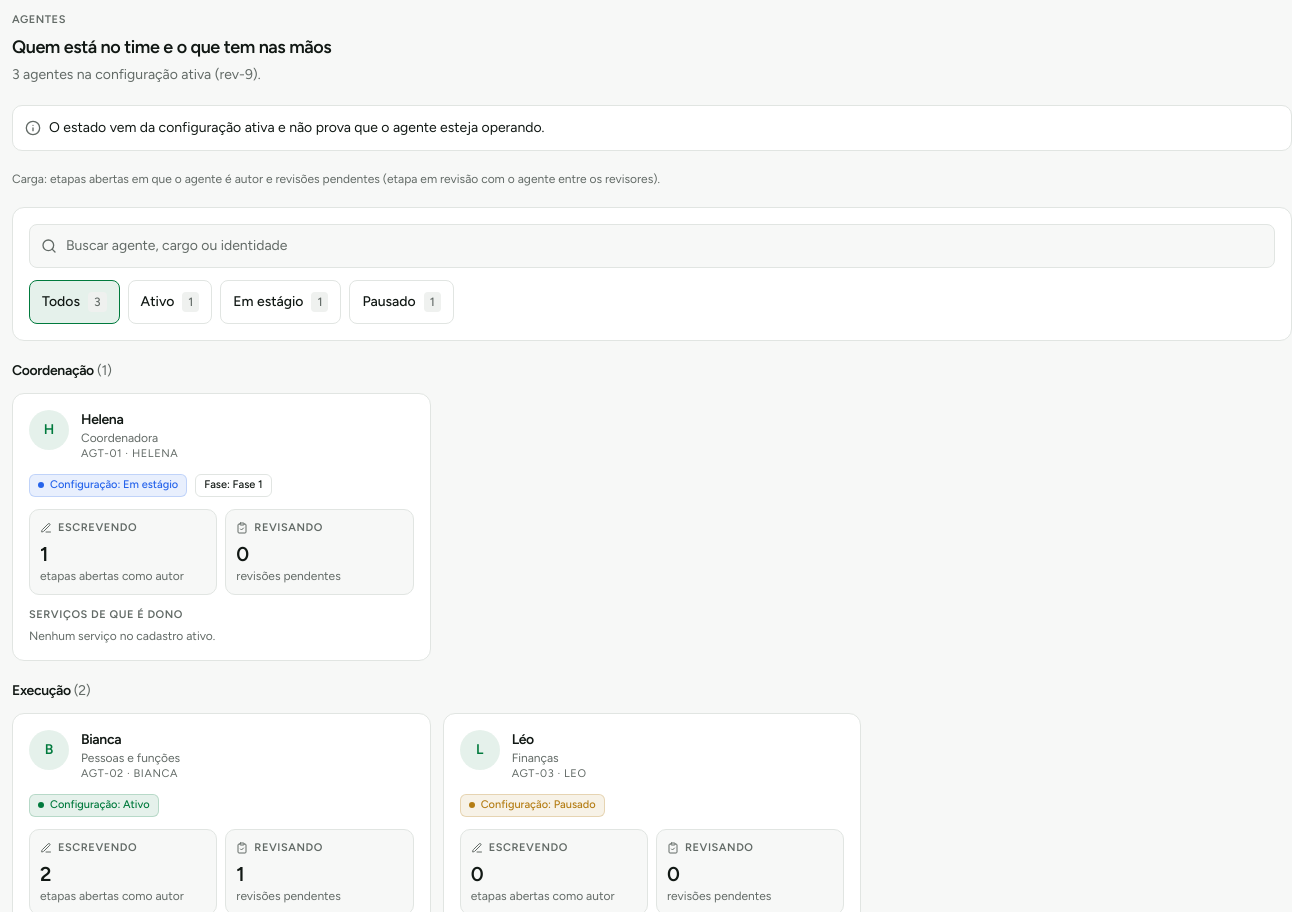
Test case: busca por nome e filtra por estado
This screenshot has width=1292, height=912.
Type "leo" into the search field labelled "Buscar agente, cargo ou identidade" at (652, 246), box left=29, top=224, right=1275, bottom=268
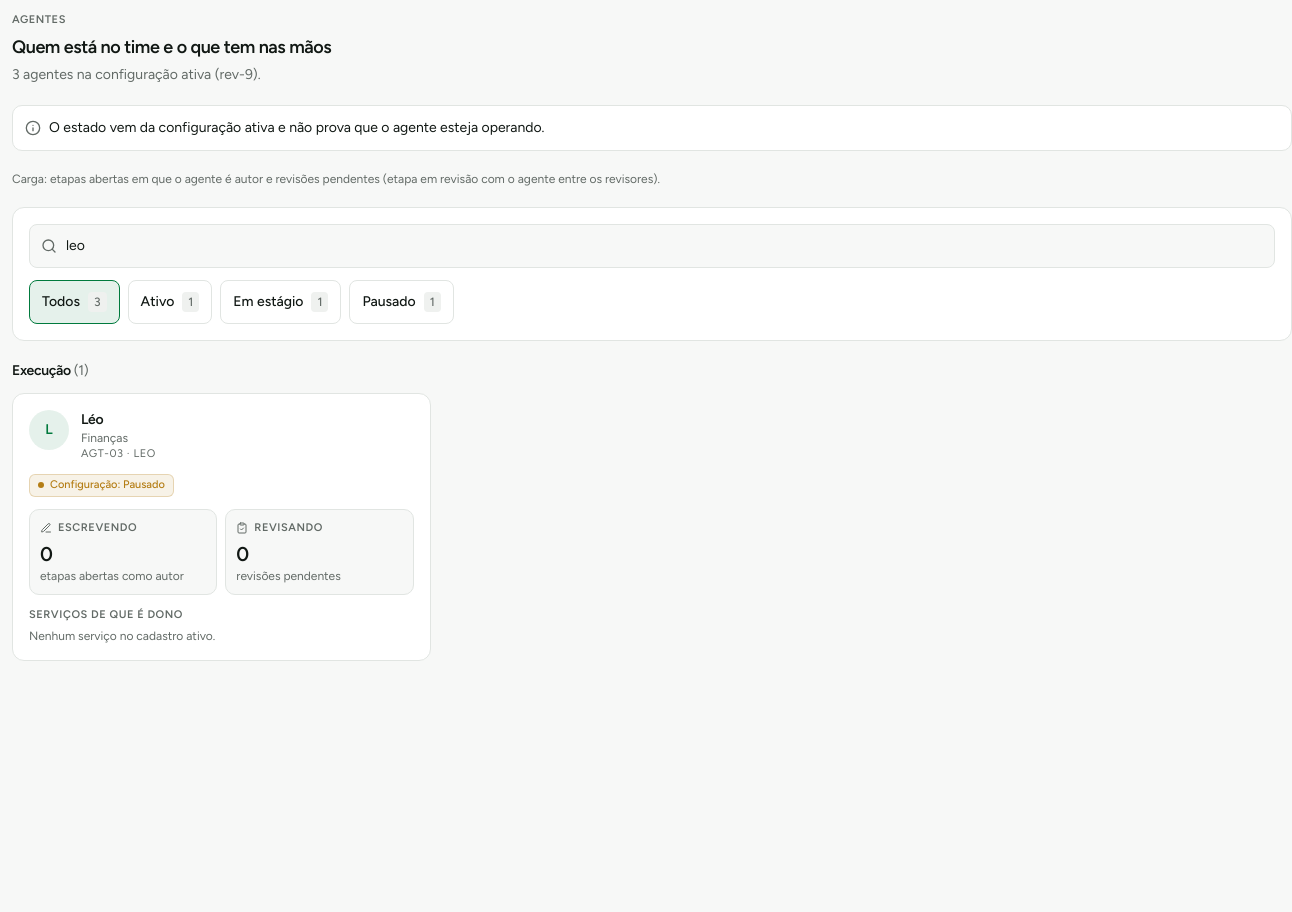
expect the number of list items named "Agente " is 1: met, box left=12, top=392, right=431, bottom=660
Clear the search field named "Buscar agente" at (652, 246), box left=29, top=224, right=1275, bottom=268
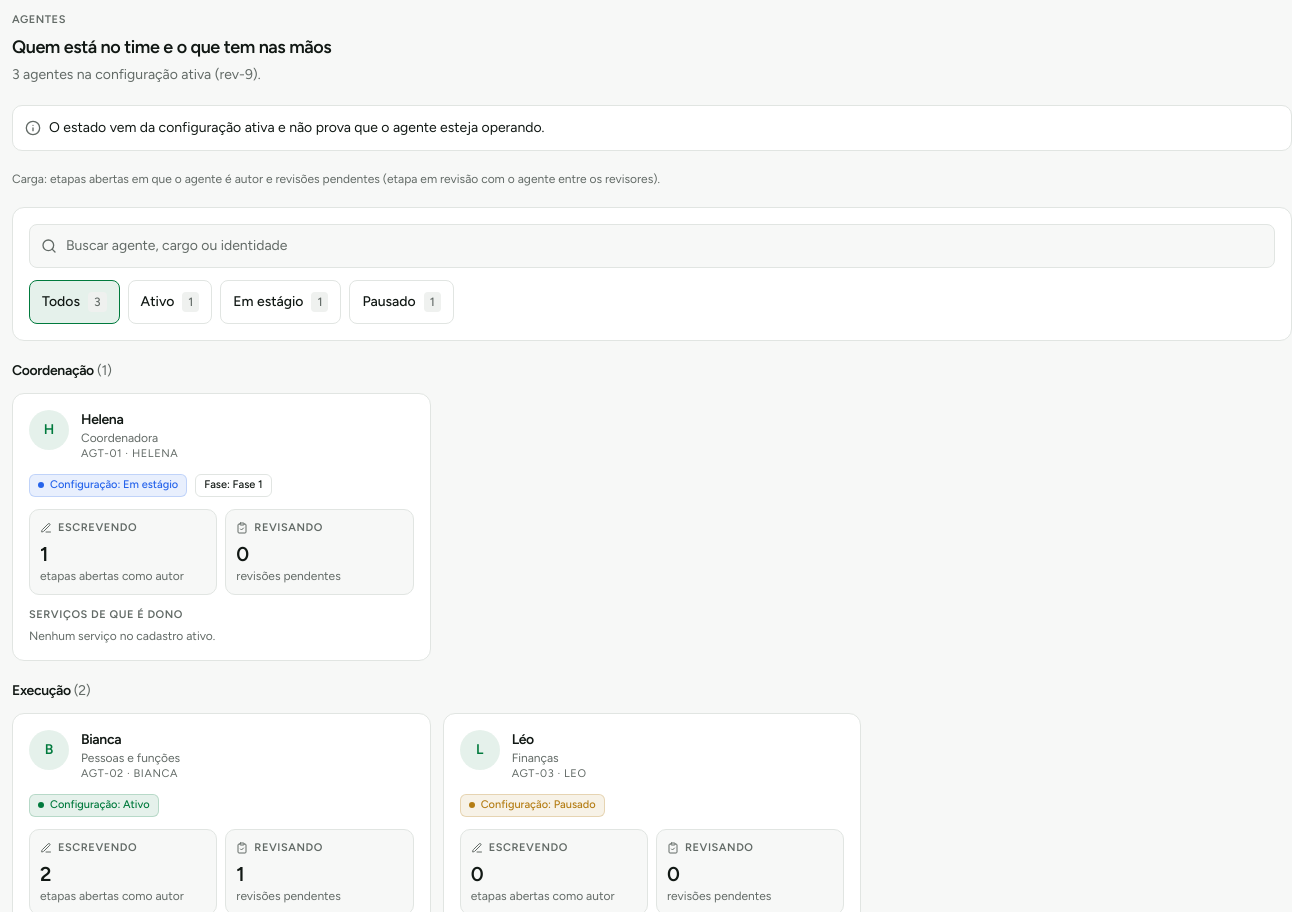
Click the button "Ativo 1" at (170, 302), box left=128, top=280, right=212, bottom=324
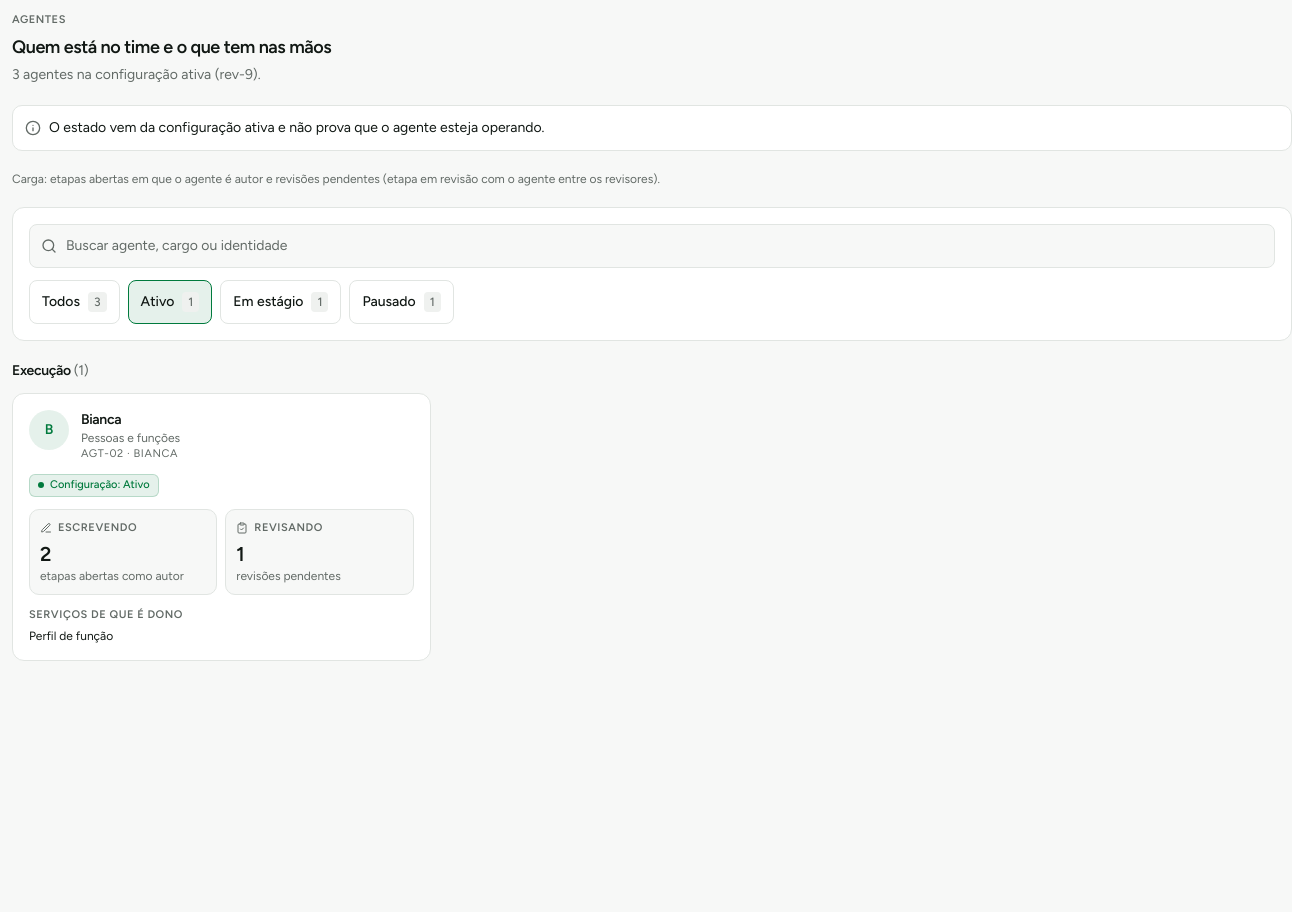
expect the number of list items named "Agente " is 1: met, box left=12, top=392, right=431, bottom=660
Type "zzz" into the search field labelled "Buscar agente, cargo ou identidade" at (652, 246), box left=29, top=224, right=1275, bottom=268
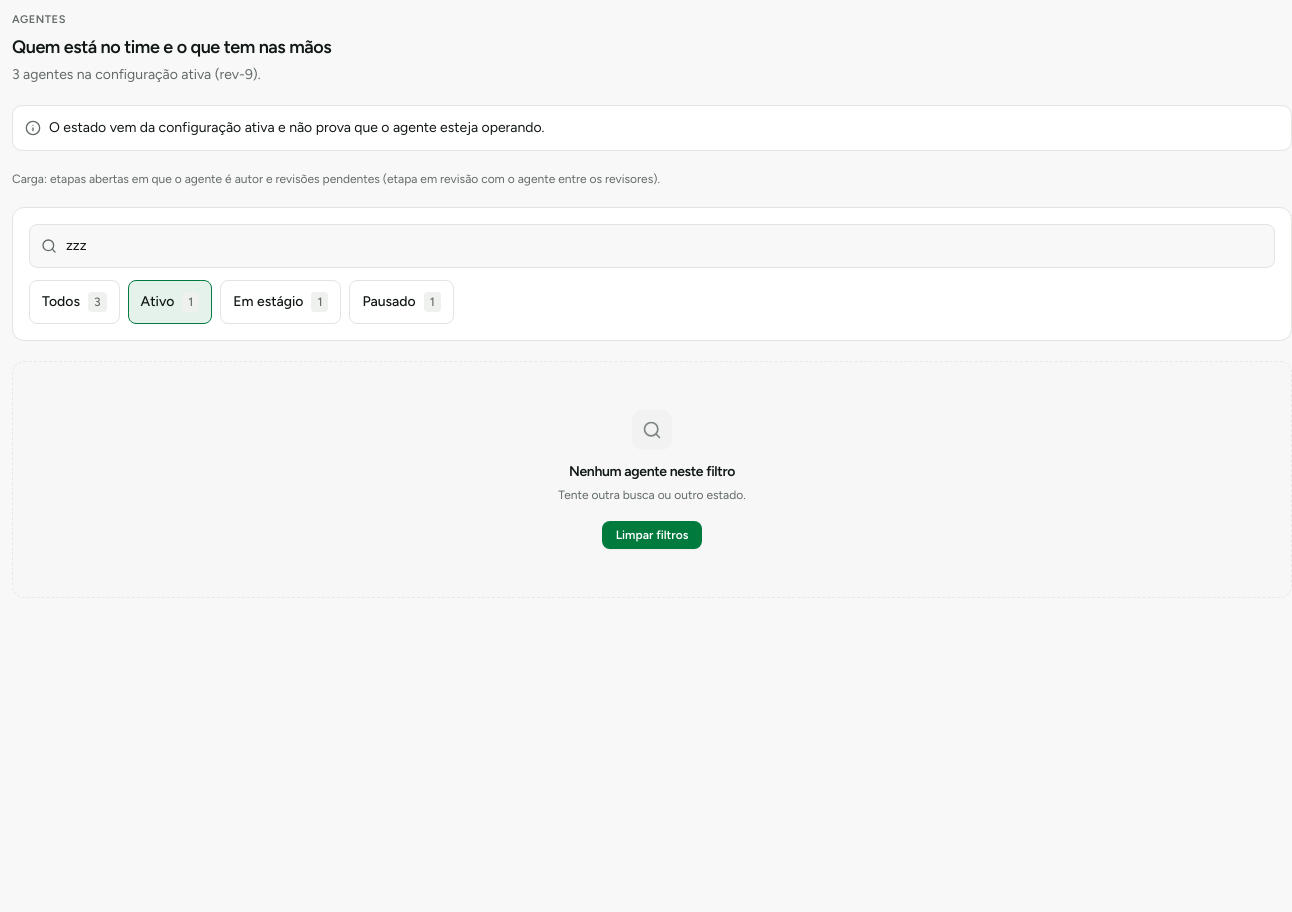
expect the heading "Nenhum agente neste filtro" is shown: met, box left=569, top=462, right=735, bottom=482
